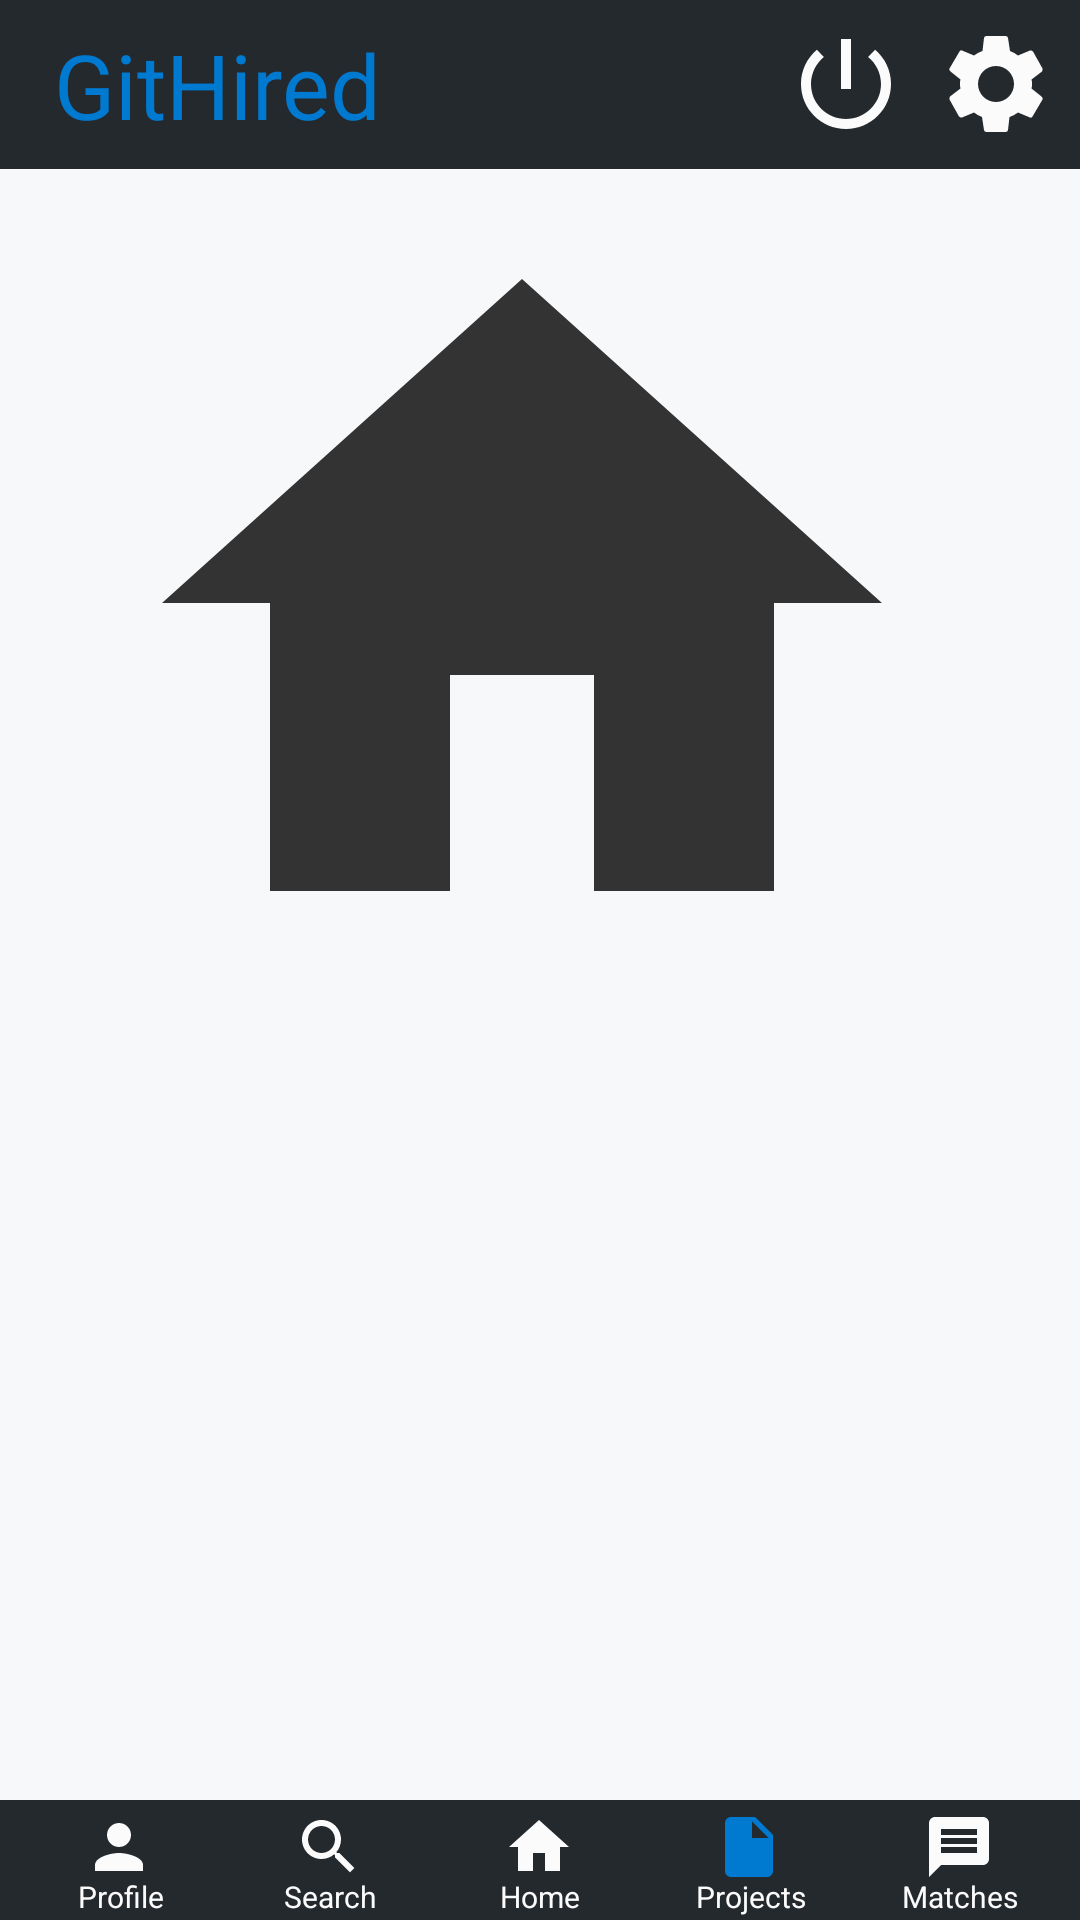

Screen size 1080×1920. Icon name, then its box in pixels as (x1, y1, x2, y2):
fileblue: (725, 1817, 773, 1890)
messagewhite: (929, 1817, 989, 1877)
powerwhite: (801, 39, 891, 129)
settingswhite: (949, 36, 1043, 132)
